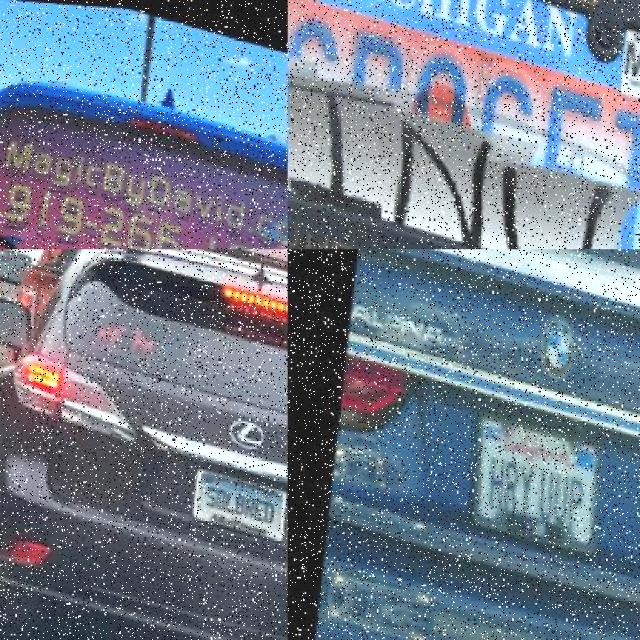licenseplate: (287, 0, 640, 249), (447, 398, 618, 559), (184, 462, 280, 535)
